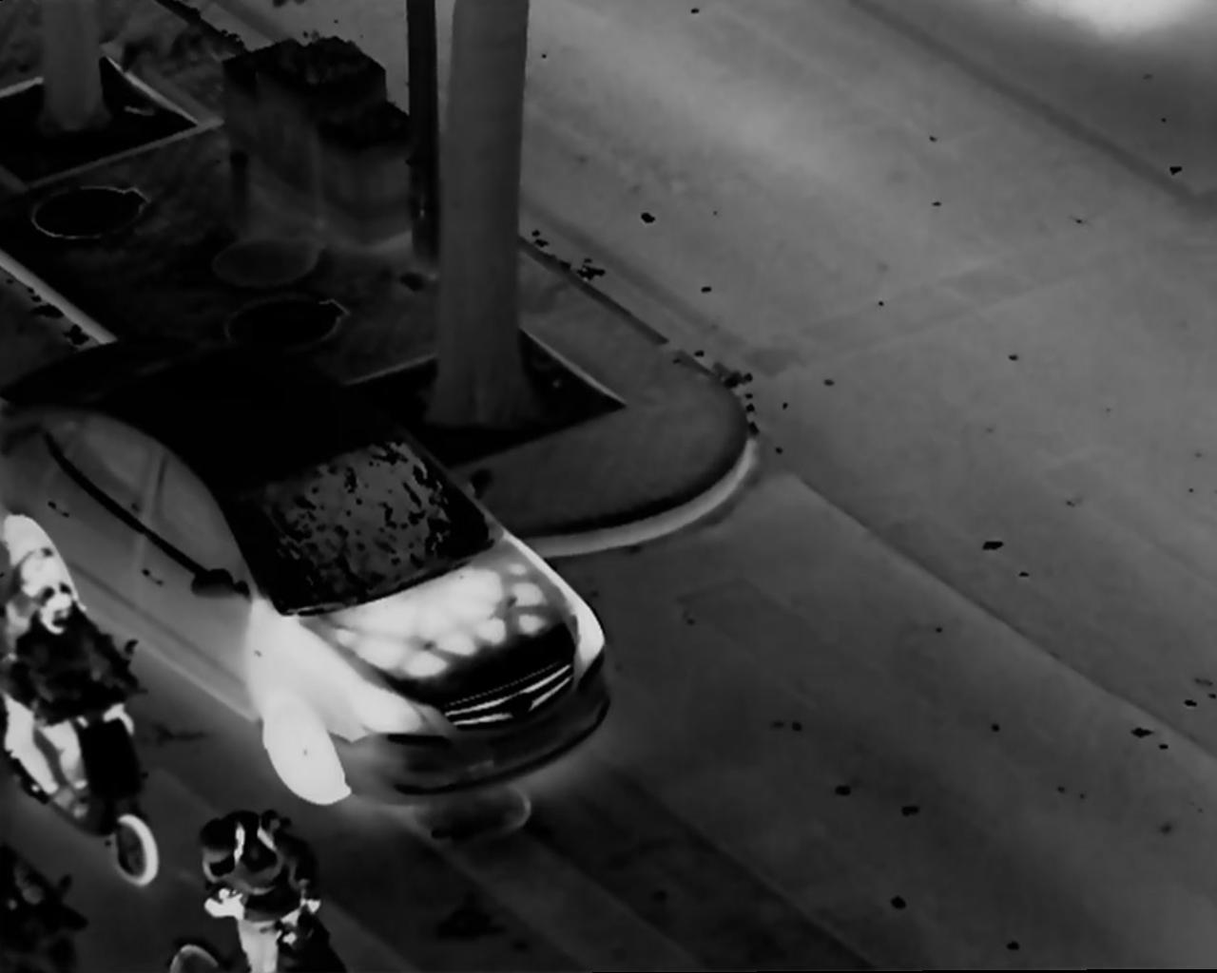person: (21, 558, 142, 815), (182, 806, 344, 973)
